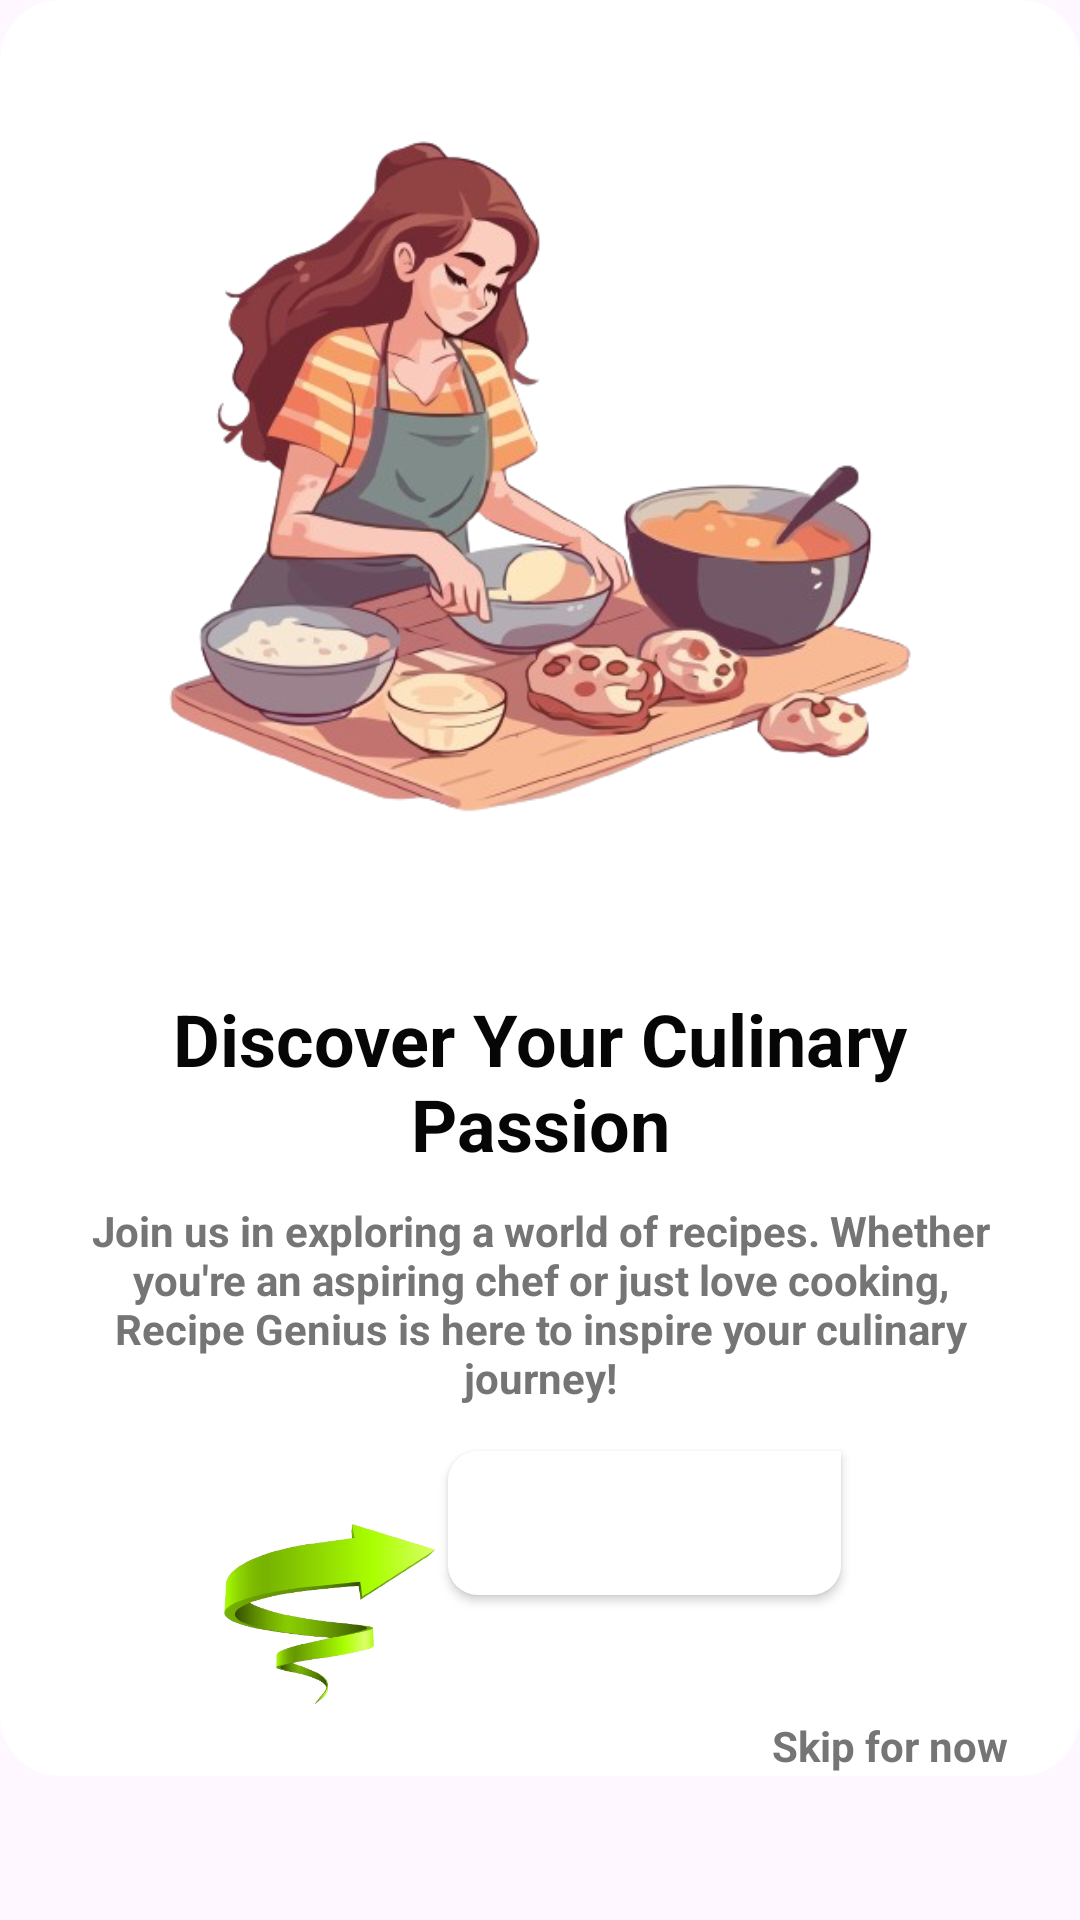

Icon click points for this 1080w x 1920h phone screenshot, format point (x, y):
getstartarrow: point (329, 1614)
